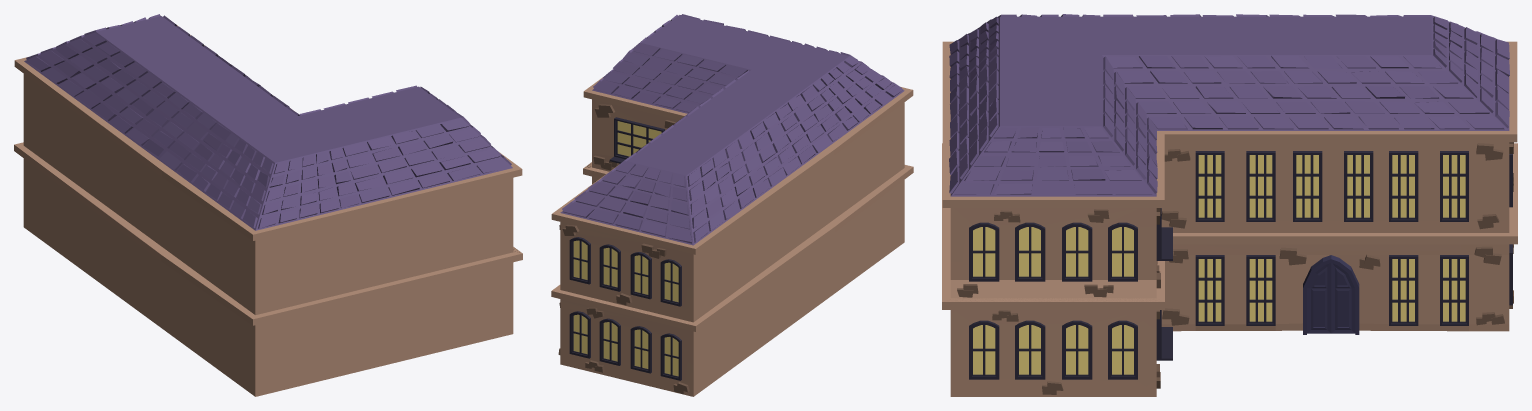
Rendered from Bibliothek.fbx.
3 renders of one model, left to right at view 1: azimuth 30°, elevation 25°; view 2: azimuth 150°, elevation 25°; view 3: azimuth 270°, elevation 25°, orthographic. The views are drawn at different scales.
Visible parts, largest first — view 1: Bibliothek; view 2: Bibliothek; view 3: Bibliothek.
Boxes of the visible parts, x1,y1,x2,y2 form: Bibliothek: (14,14,522,396); Bibliothek: (551,14,913,396); Bibliothek: (942,14,1517,396).
Bounding box in the file's own units: 3031 × 2236 × 4600.
